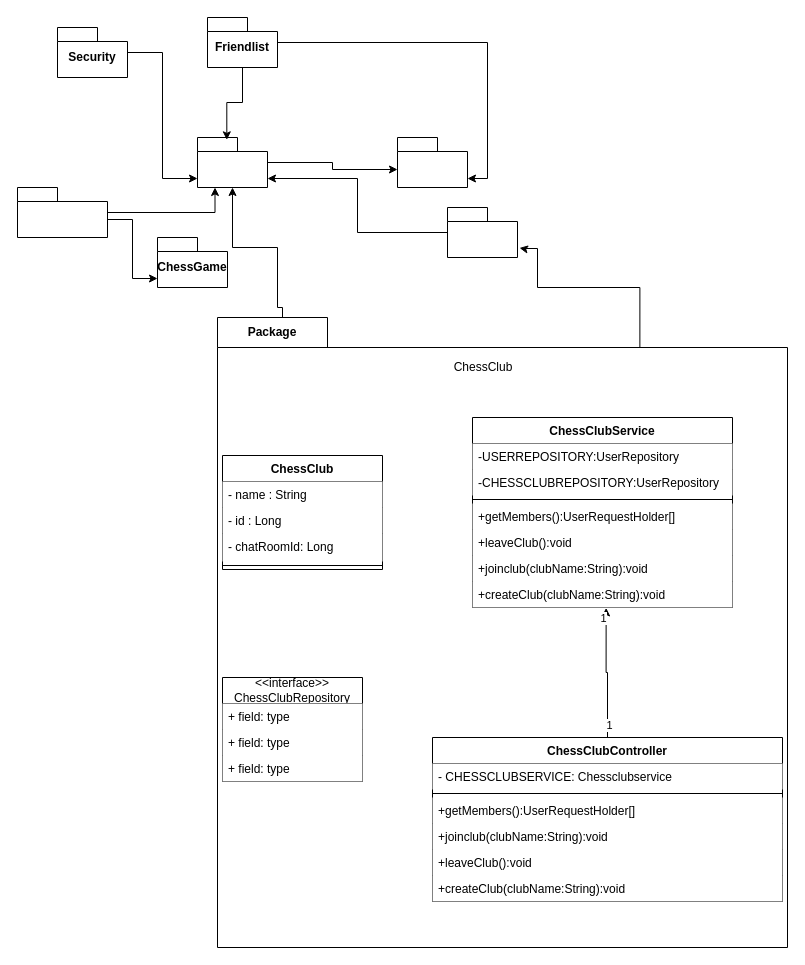
Image size: 805x965. Some labels were removed from this diagram. The shapes that lost their labels are listed below. From the top down, each one's centre as x and y in pixels, then its label:
At (232,162): "User".
At (432,162): "Email".
At (62,212): "Matchmaking".
At (482,232): "Chat".
